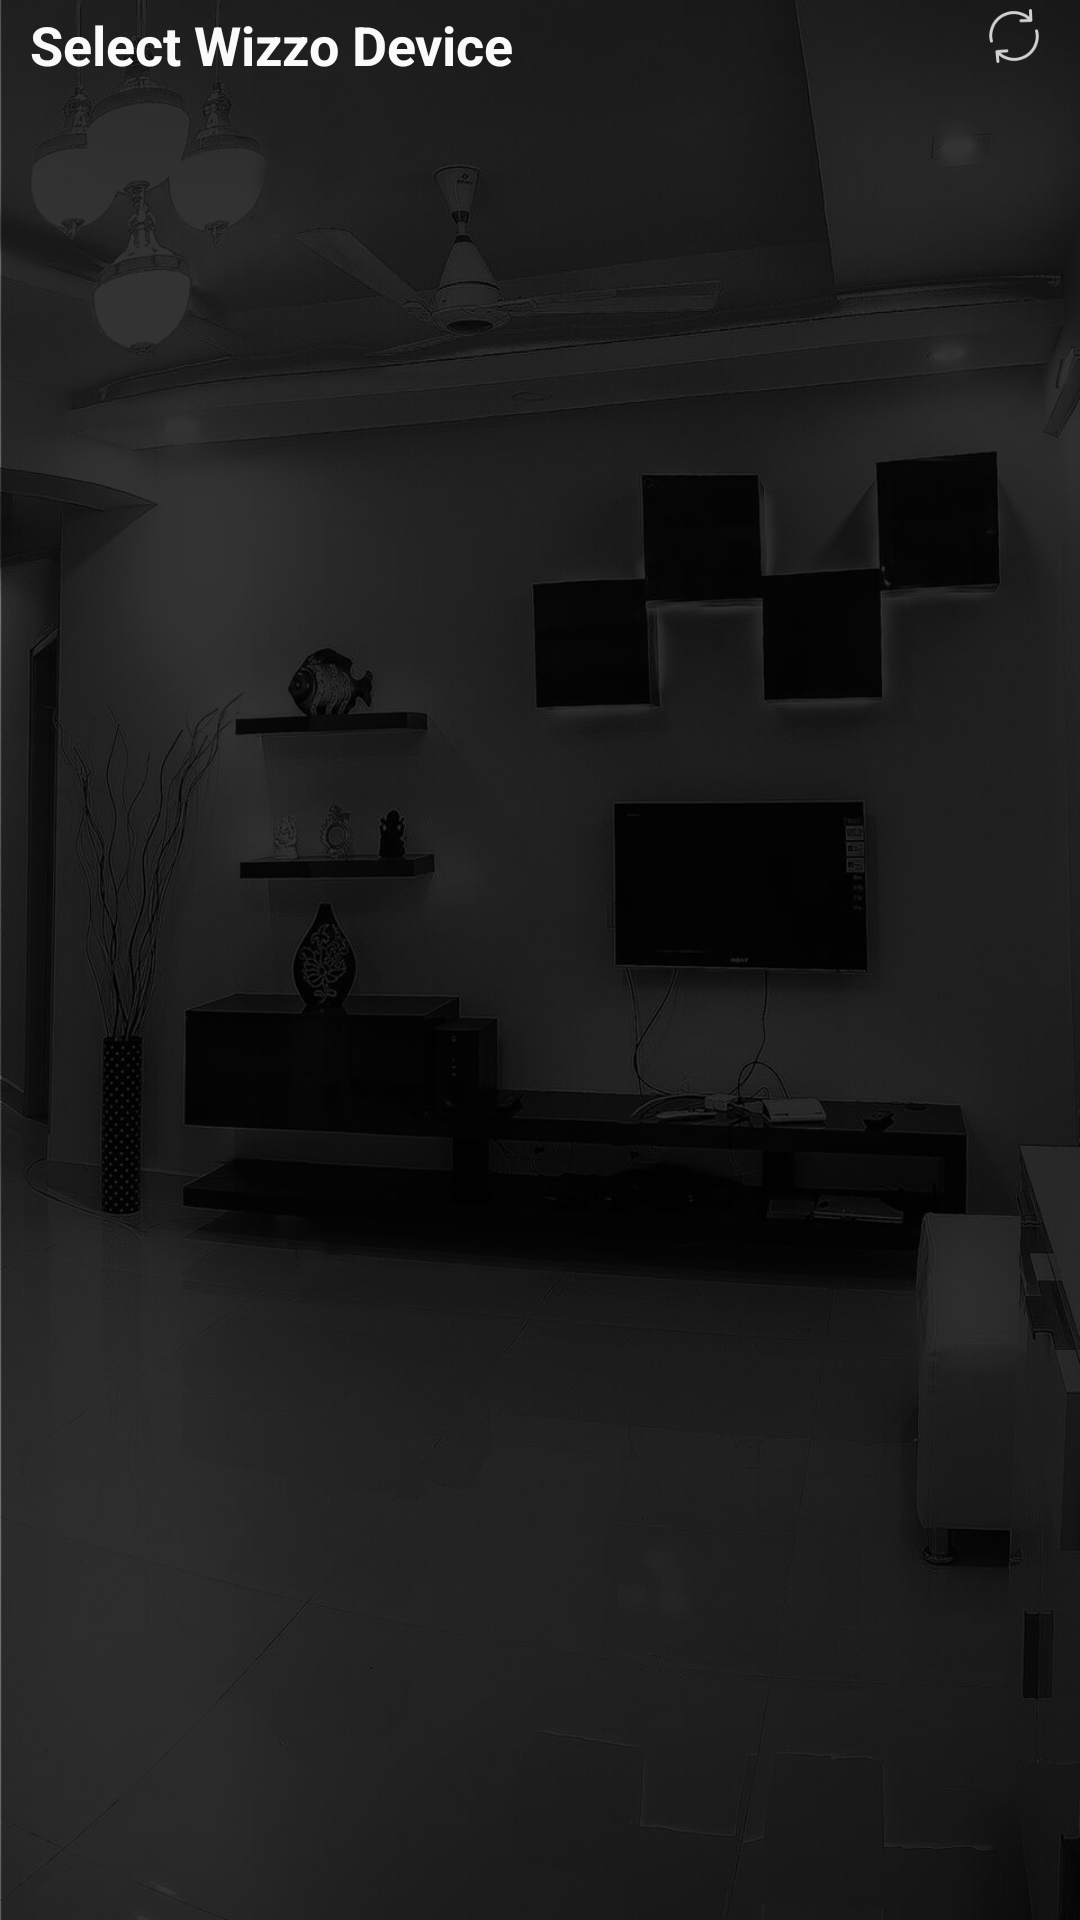

Point at icon controls on the screen. Image size 1080x1920, points as (x=x, y=y).
refresh: (x=1014, y=36)
